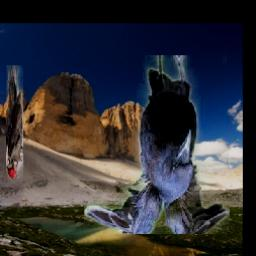Crow: (84, 55, 230, 234)
Woodpecker: (5, 66, 22, 180)
